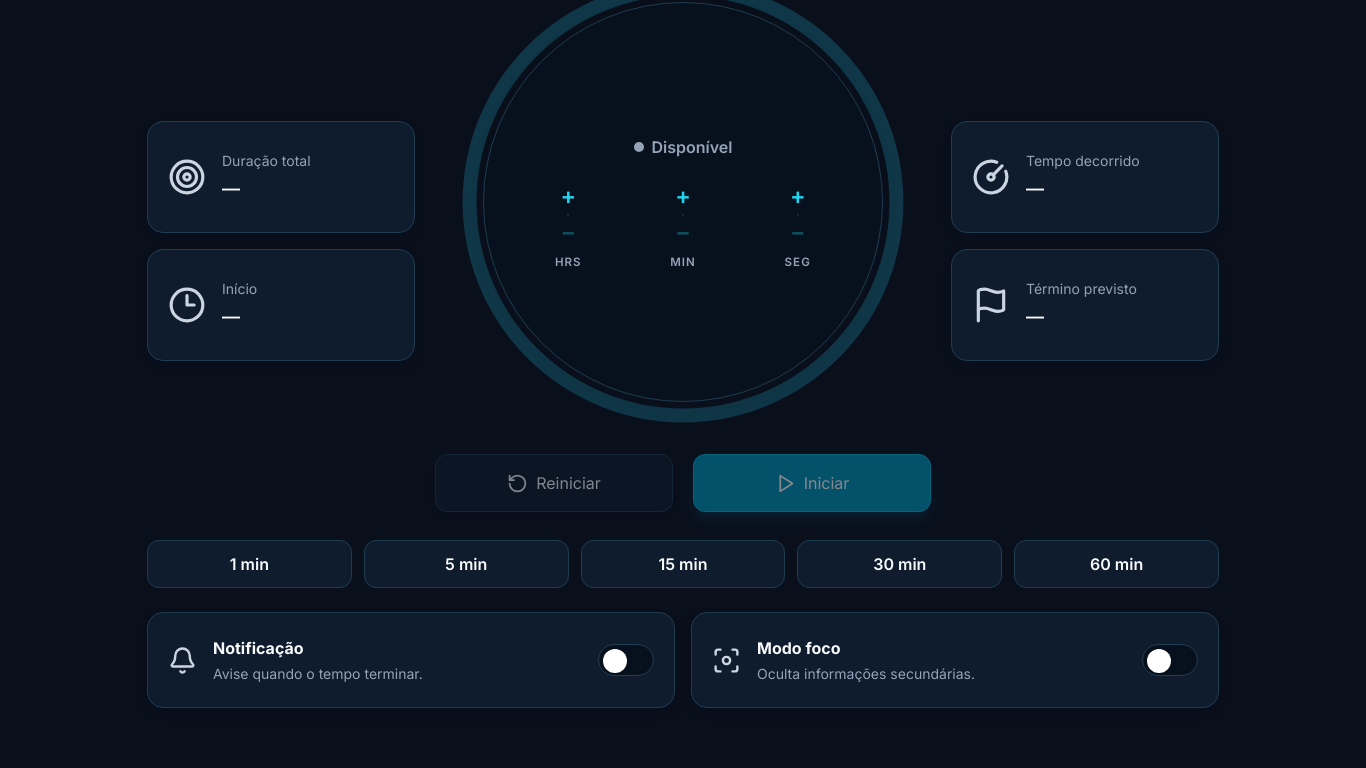
Test: modo foco oculta informações secundárias e permite retornar
This screenshot has width=1366, height=768.
(page scrolled)
Expected: the text "Duração total" is shown, [222,151,311,171]
Click the switch named "Ativar modo foco" at (1170, 660), box [1142,644,1198,676]
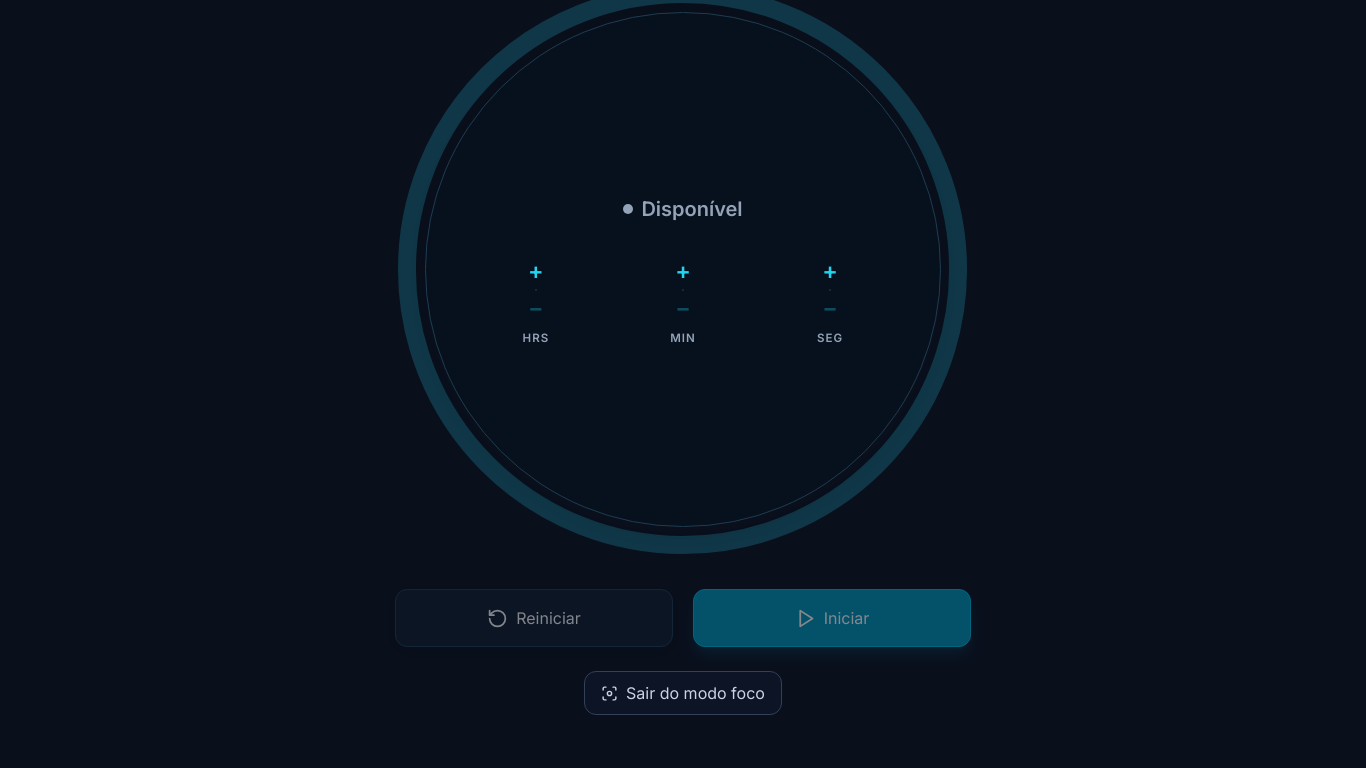
Expected: the text "Duração total" is gone
Expected: the button "5 min" is gone
Click the button "Sair do modo foco" at (683, 693), box [584,671,782,715]
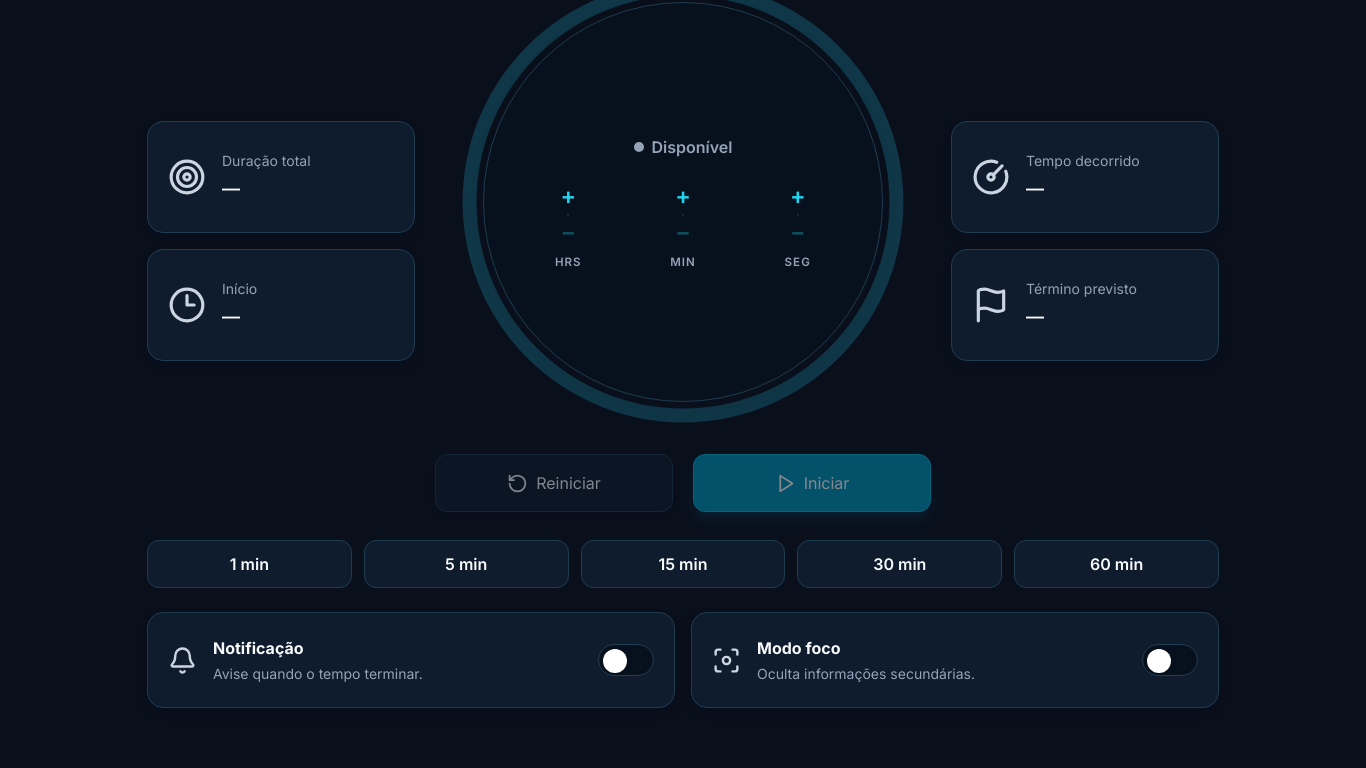
Expected: the text "Duração total" is shown, [222,151,311,171]
